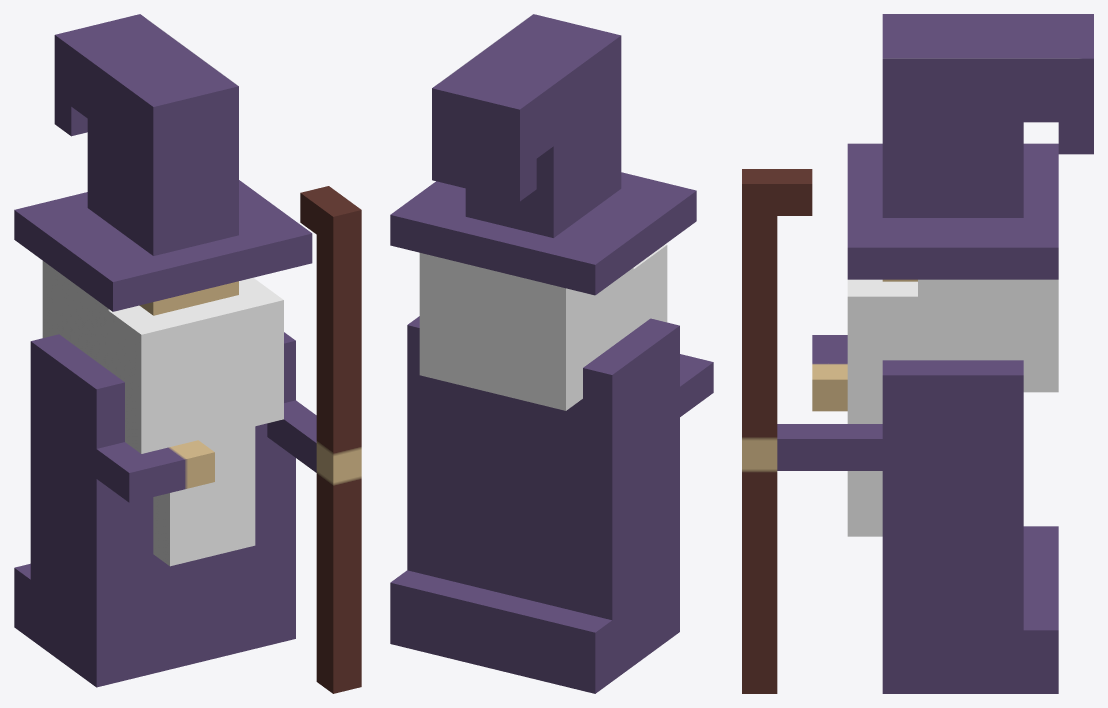
3 views of the same model, side by side, from view 1: azimuth 30°, elevation 25°; view 2: azimuth 150°, elevation 25°; view 3: azimuth 270°, elevation 25° (orthographic). The views are drawn at different scales.
Visible parts, largest first — view 1: Wizard; view 2: Wizard; view 3: Wizard.
Part boxes in pixels (box(x1,y1,x2,y2)): Wizard: box(14, 14, 361, 693); Wizard: box(390, 14, 713, 693); Wizard: box(742, 14, 1093, 693).
Bounding box in the file's own units: 0.4375 × 1.19 × 0.625.
